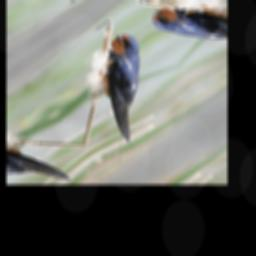Swallow: (58, 27, 195, 142)
